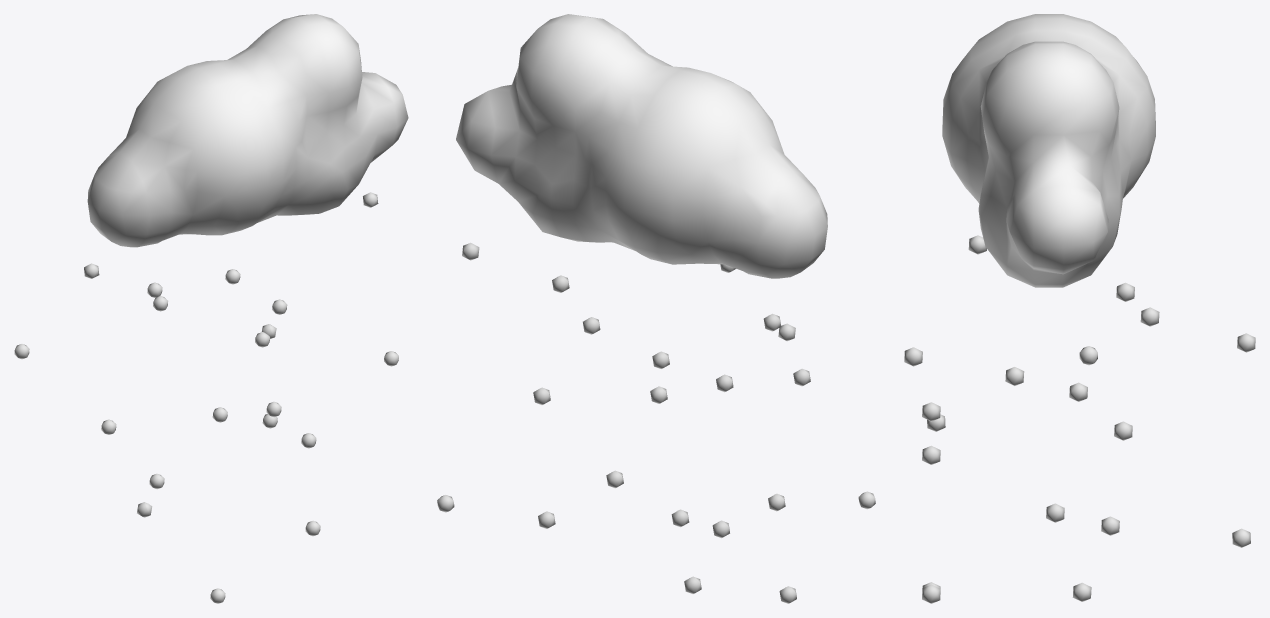
Rendered from Snow_Cloud_01.fbx.
3 renders of one model, left to right at view 1: azimuth 30°, elevation 25°; view 2: azimuth 150°, elevation 25°; view 3: azimuth 270°, elevation 25°, orthographic. The views are drawn at different scales.
Visible parts, largest first — view 1: Snow_Cloud_01; view 2: Snow_Cloud_01; view 3: Snow_Cloud_01.
Part boxes in pixels (<box>): Snow_Cloud_01: <box>14,14,408,603</box>; Snow_Cloud_01: <box>437,14,875,603</box>; Snow_Cloud_01: <box>904,14,1255,603</box>.
Bounding box in the file's own units: 352 × 550 × 275.
